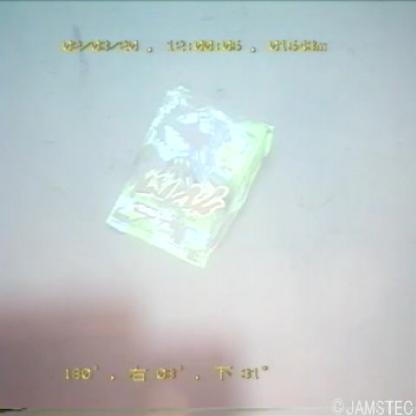Rác: (94, 77, 282, 288)
